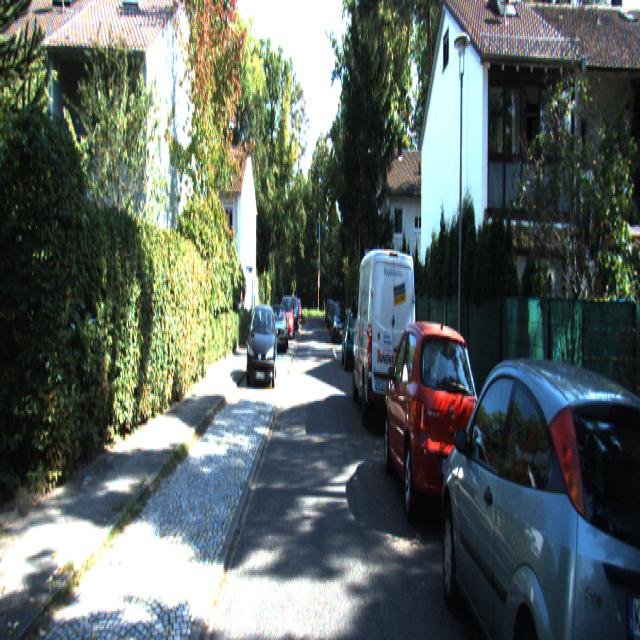Car: (436, 343, 640, 638), (381, 314, 489, 550), (351, 244, 416, 444), (246, 301, 276, 392), (342, 306, 369, 373), (268, 306, 288, 354), (332, 300, 348, 345), (279, 294, 294, 339)
